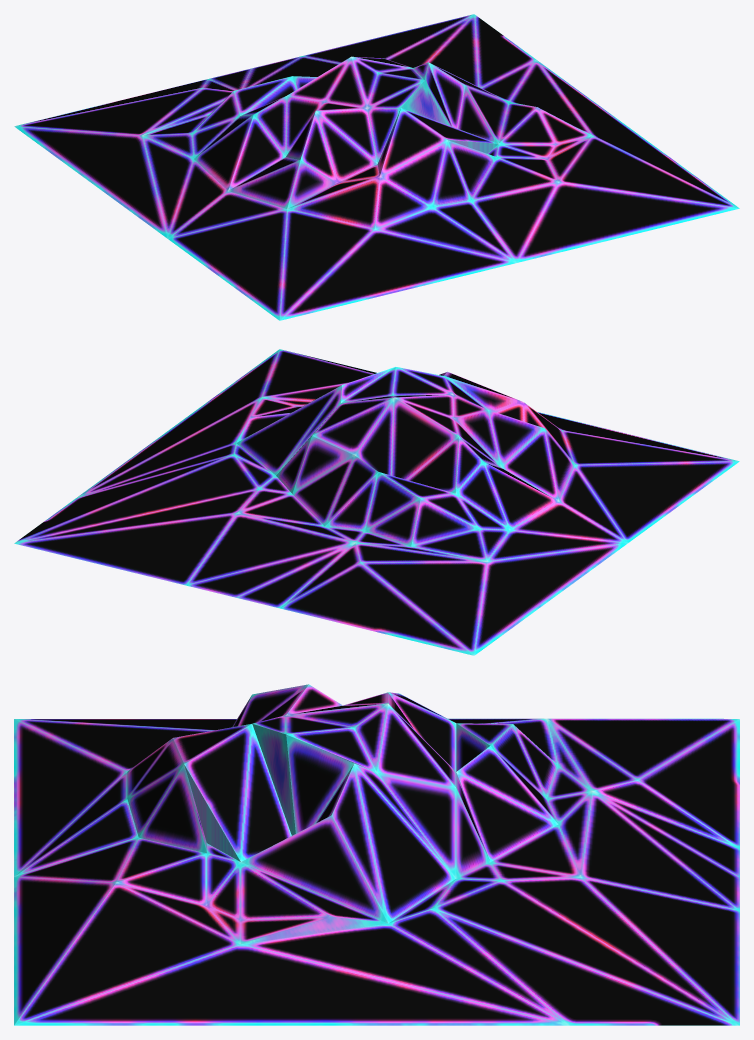
File: wire_terr_2.FBX
The picture shows the model from 3 angles, top to bottom: view 1: azimuth 30°, elevation 25°; view 2: azimuth 150°, elevation 25°; view 3: azimuth 270°, elevation 25°; orthographic projection. The views are drawn at different scales.
Visible parts, largest first — view 1: wire_terrain_2; view 2: wire_terrain_2; view 3: wire_terrain_2.
Part boxes in pixels (box(x1,y1,x2,y2)): wire_terrain_2: box(14, 14, 739, 320); wire_terrain_2: box(14, 349, 739, 655); wire_terrain_2: box(14, 684, 739, 1025).
Size of the model in its own units: 204 by 47.78 by 204.
Materials: 1 (1 with a texture image).
